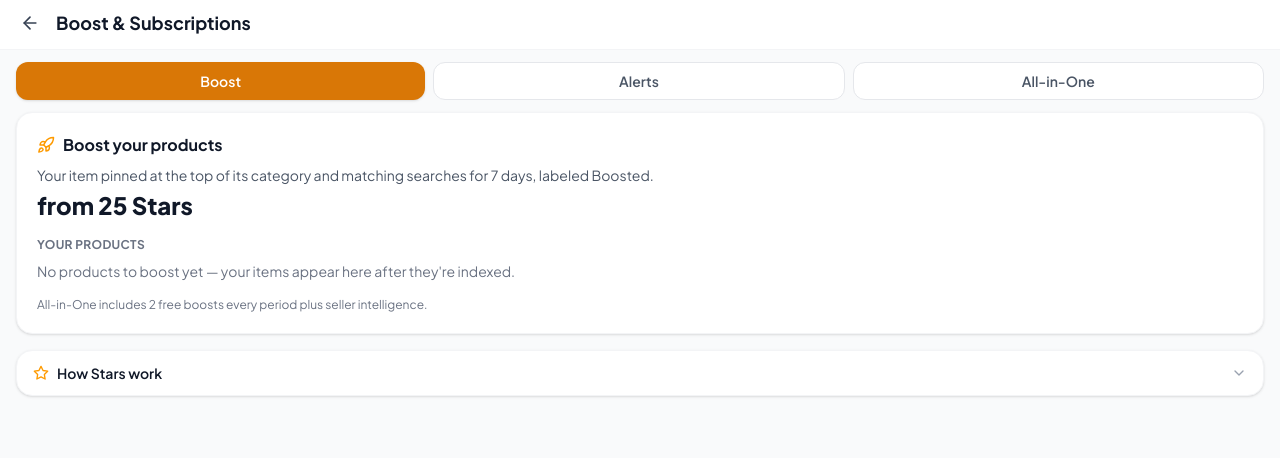
Test: MonetizationHub - tabs & deep links (NB-48 §2.1) › switches tabs via the tab buttons
This screenshot has width=1280, height=458.
Click the button with test id "hub-tab-btn-alerts" at (639, 81), box x1=433 y1=62 x2=845 y2=100
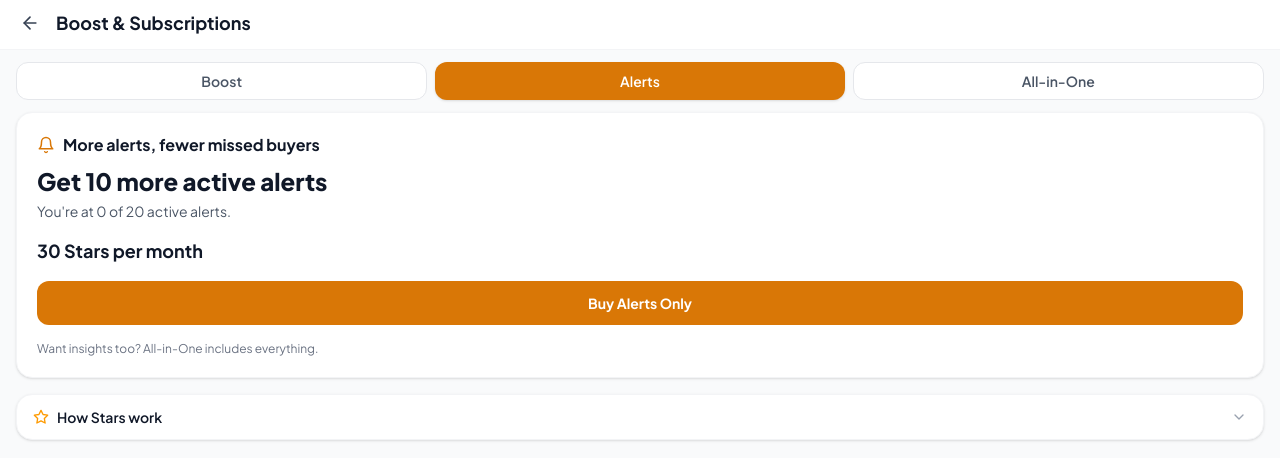
Expected: the element with test id "hub-tab-alerts" is shown, x1=16 y1=112 x2=1264 y2=378
